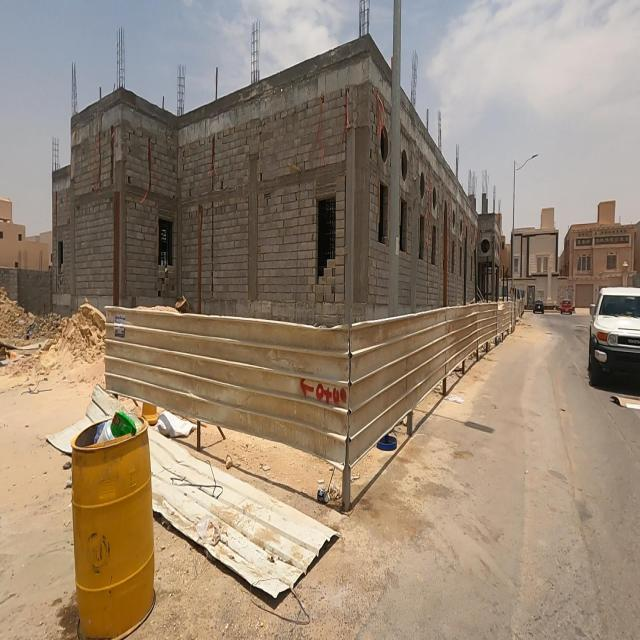Graffiti: (299, 378, 348, 408)
